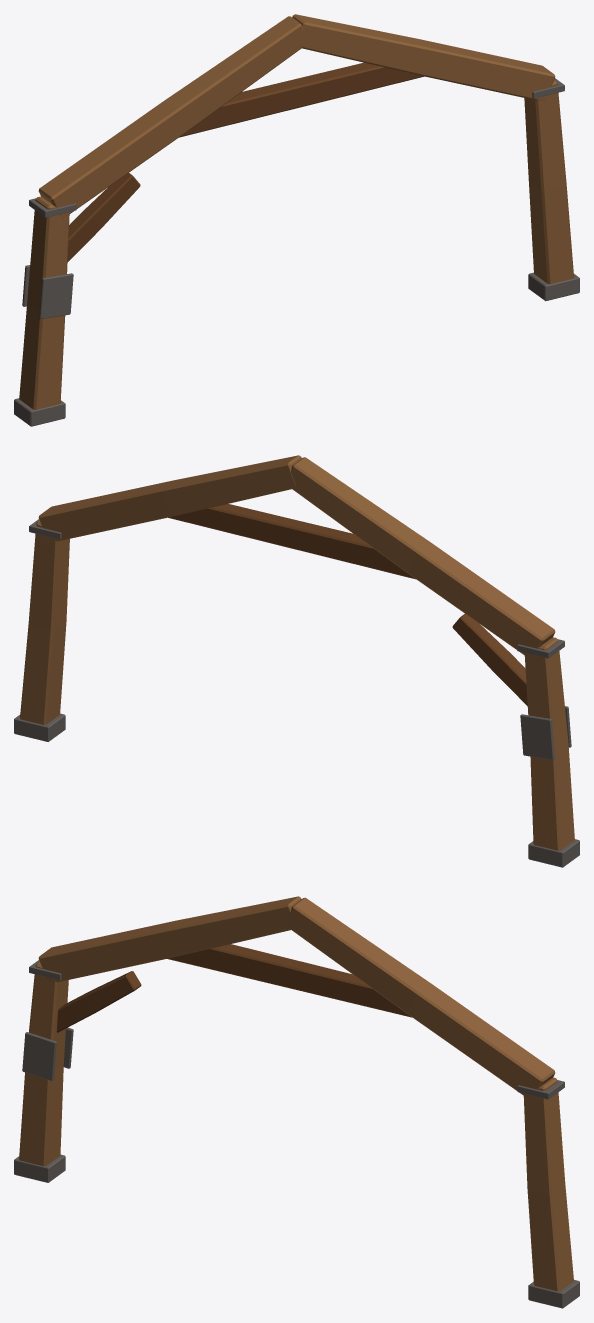
Rendered from timber_support_arch_b.glb.
The picture shows the model from 3 angles, top to bottom: view 1: azimuth 30°, elevation 25°; view 2: azimuth 150°, elevation 25°; view 3: azimuth 330°, elevation 25°; orthographic projection.
Visible parts, largest first — view 1: GEO_wood, GEO_wooddark, GEO_iron; view 2: GEO_wood, GEO_wooddark, GEO_iron; view 3: GEO_wood, GEO_wooddark, GEO_iron.
Boxes of the visible parts, <box> form: GEO_wood: <box>19,14,573,409</box>; GEO_wooddark: <box>67,62,424,261</box>; GEO_iron: <box>14,78,579,426</box>; GEO_wood: <box>20,455,574,850</box>; GEO_wooddark: <box>168,504,527,705</box>; GEO_iron: <box>14,519,579,867</box>; GEO_wood: <box>19,896,573,1291</box>; GEO_wooddark: <box>56,944,411,1032</box>; GEO_iron: <box>14,960,579,1308</box>.
Bounding box in the file's own units: 14.68 × 8.55 × 0.86.
